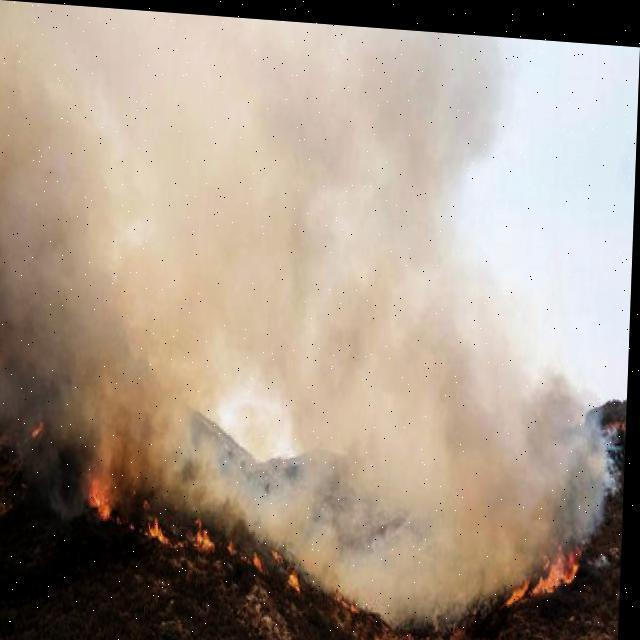Fire: (91, 471, 318, 592), (504, 528, 594, 602)
